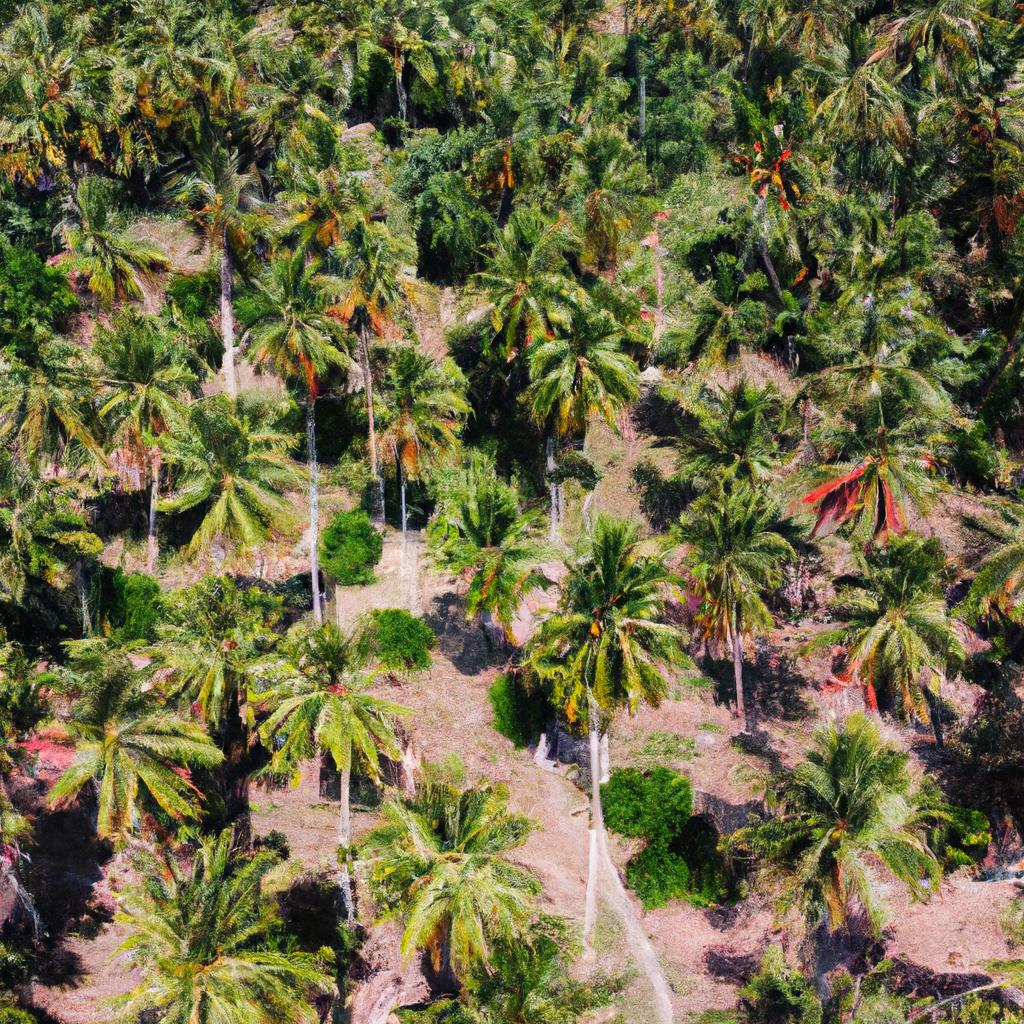coconut_tree: (113, 834, 340, 1021), (726, 712, 947, 899), (5, 643, 215, 829), (348, 786, 551, 967), (518, 513, 688, 726), (828, 532, 969, 688), (262, 656, 413, 801), (156, 388, 304, 535), (675, 477, 813, 632), (518, 311, 645, 433)
